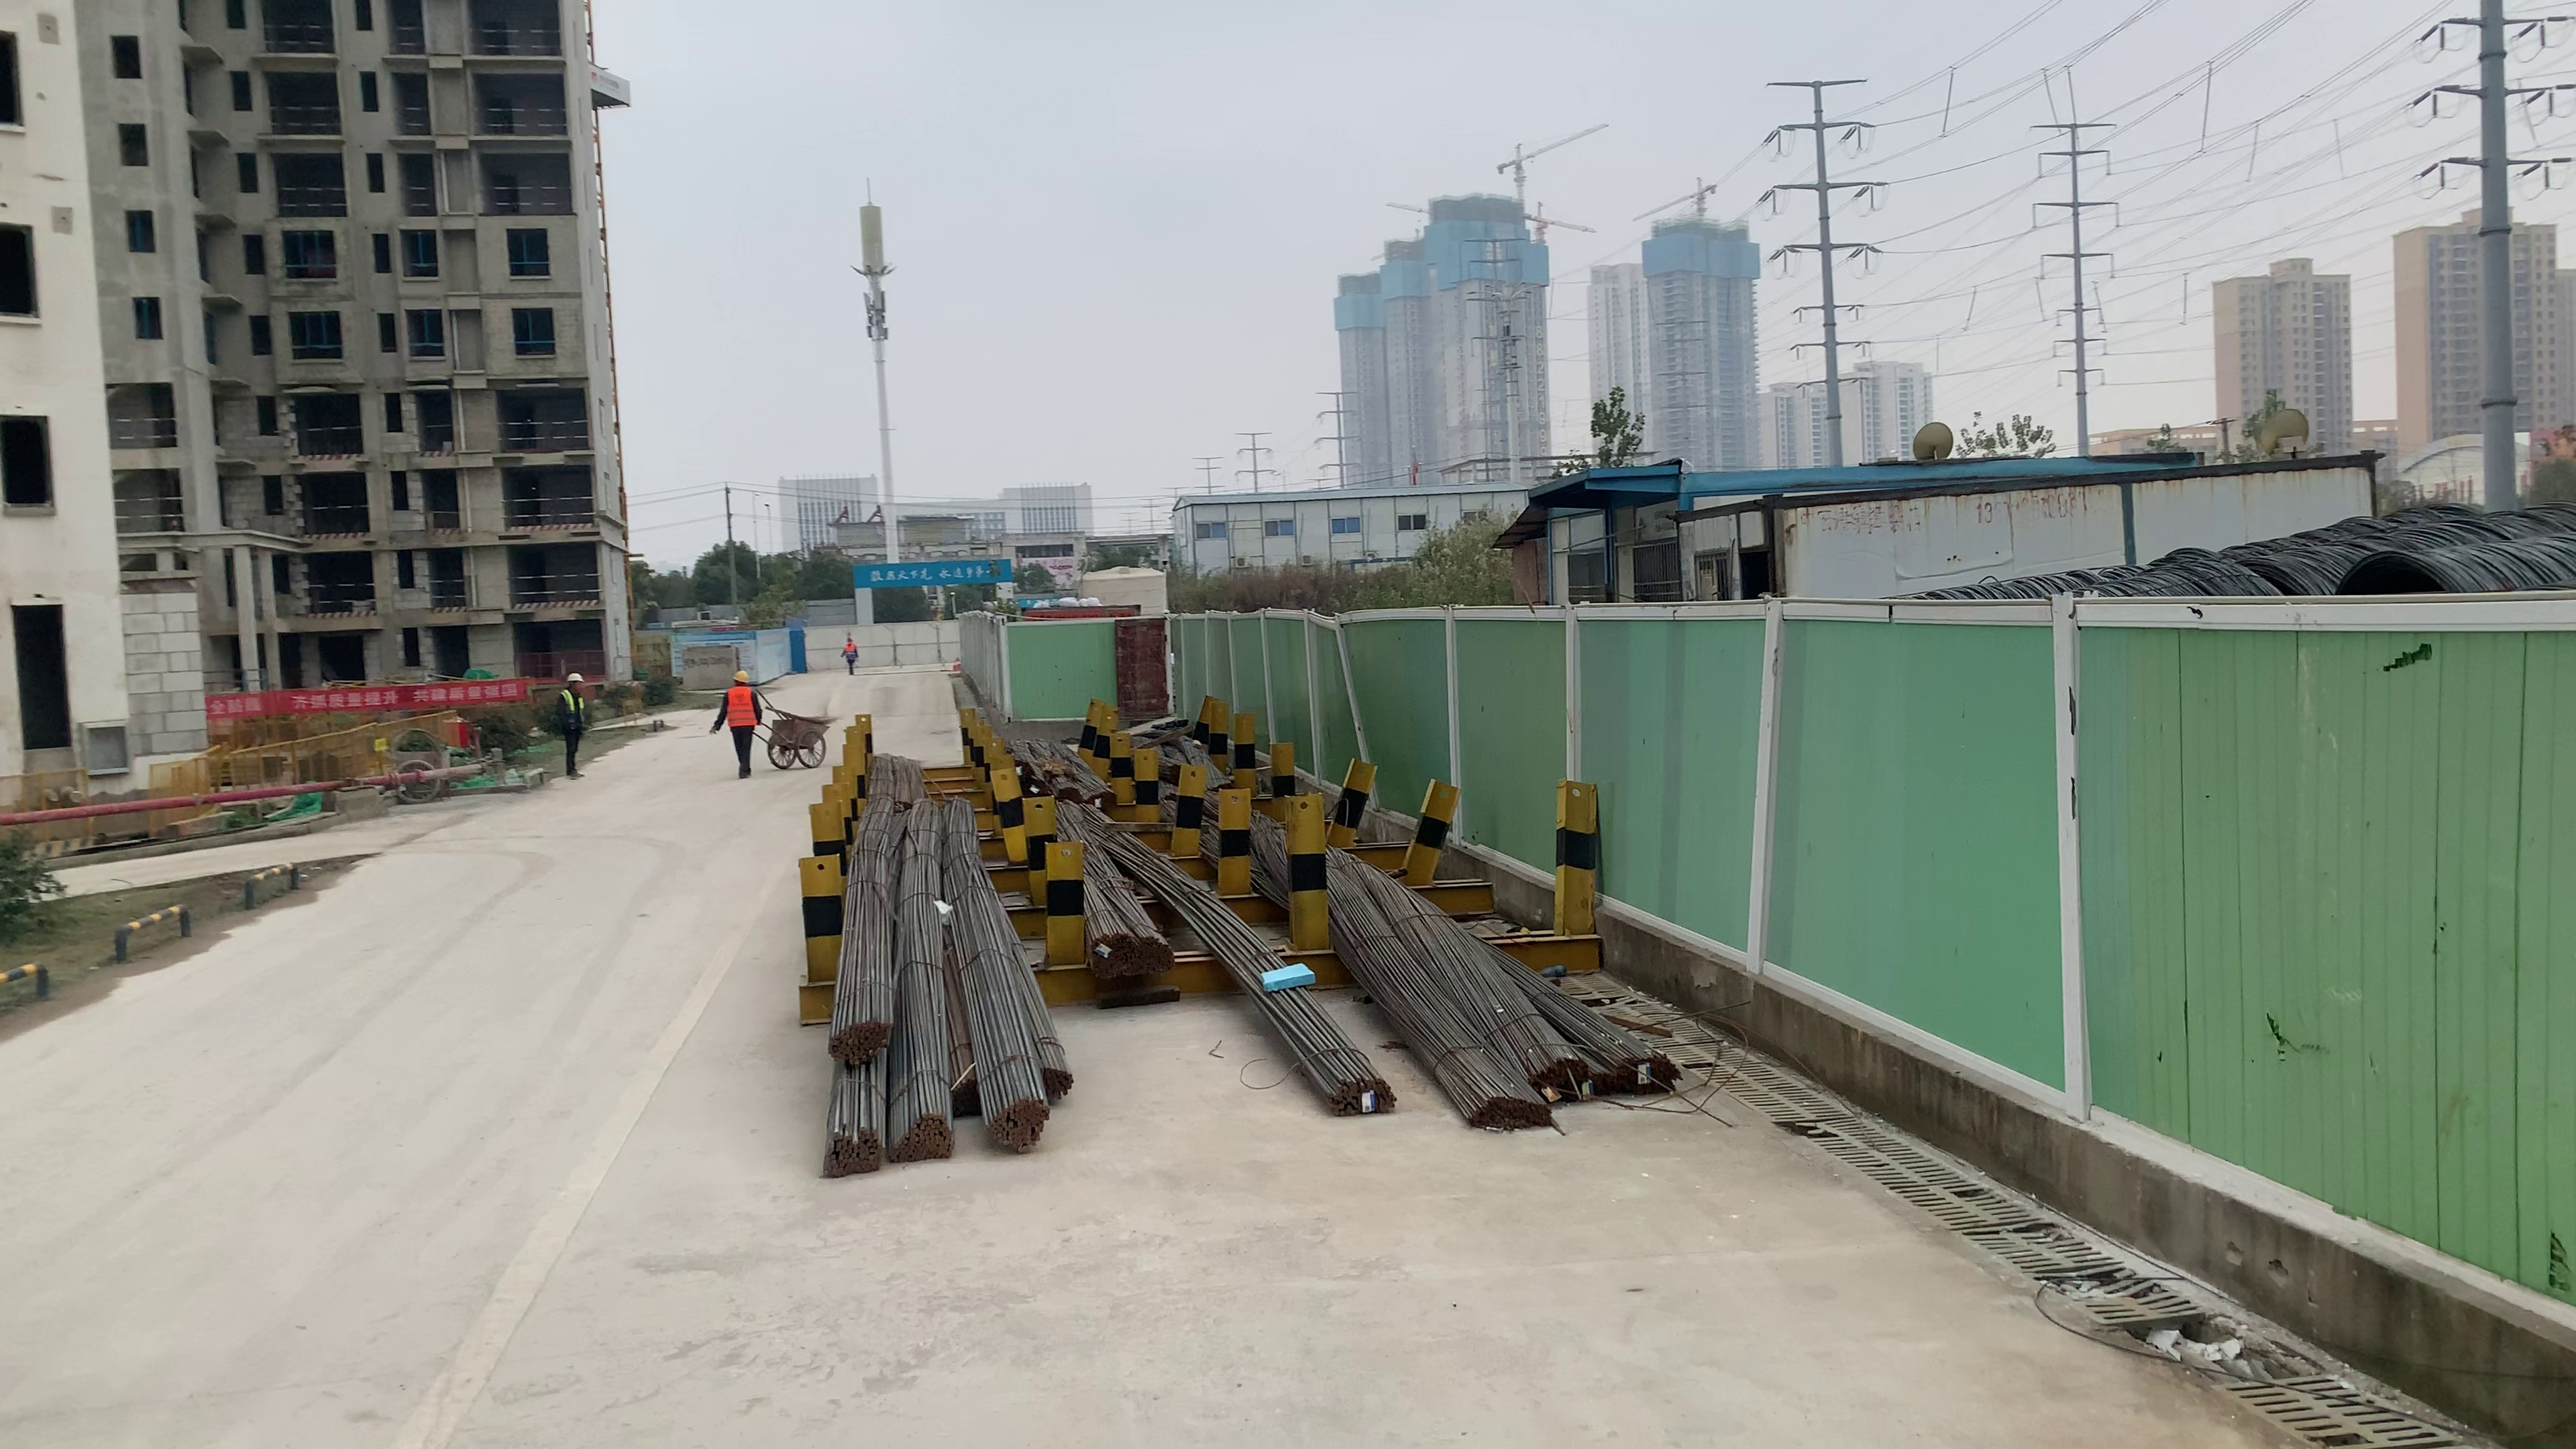rebar: (1532, 1051, 1624, 1099), (1465, 1092, 1555, 1134), (980, 1097, 1047, 1148), (1322, 1074, 1394, 1118), (1624, 1051, 1686, 1099), (886, 1118, 957, 1159), (828, 1019, 886, 1063), (823, 1131, 879, 1171), (1086, 931, 1134, 977), (1136, 943, 1173, 984), (1037, 1063, 1076, 1097), (948, 1074, 980, 1104)
